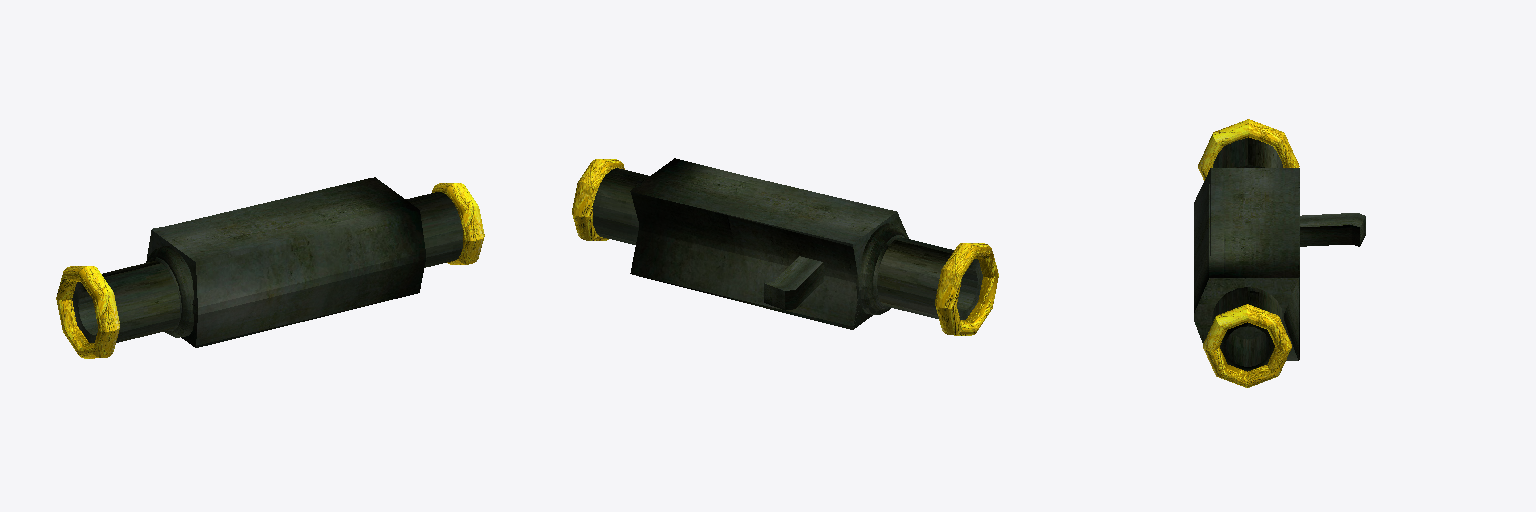
3 views of the same model, side by side, from view 1: azimuth 30°, elevation 25°; view 2: azimuth 150°, elevation 25°; view 3: azimuth 270°, elevation 25° (orthographic).
Visible parts, largest first — view 1: pCube1, pPipe1, pTorus2, pasted__pTorus2, pTorus1; view 2: pCube1, pPipe1, pTorus2, pCube2, pTorus1, pasted__pTorus2; view 3: pCube1, pPipe1, pasted__pTorus2, pTorus2, pCube2.
Boxes of the visible parts, <box> form: pCube1: <box>146,177,425,347</box>; pPipe1: <box>72,192,462,342</box>; pTorus2: <box>56,266,119,358</box>; pasted__pTorus2: <box>432,183,484,264</box>; pTorus1: <box>146,246,193,337</box>; pCube1: <box>630,158,908,329</box>; pPipe1: <box>593,168,982,319</box>; pTorus2: <box>935,243,998,335</box>; pCube2: <box>764,256,824,310</box>; pTorus1: <box>856,223,907,314</box>; pasted__pTorus2: <box>572,159,624,240</box>; pCube1: <box>1194,168,1299,360</box>; pPipe1: <box>1212,137,1283,371</box>; pasted__pTorus2: <box>1203,304,1291,387</box>; pTorus2: <box>1198,119,1299,180</box>; pCube2: <box>1300,213,1365,246</box>.
Size of the model in its own units: 94.76 by 21.59 by 36.43.
3 materials, 2 textured.